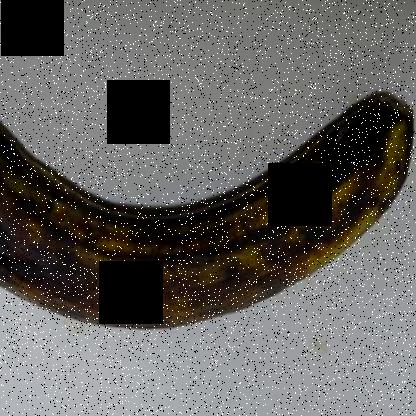overripe: (1, 84, 415, 344)
